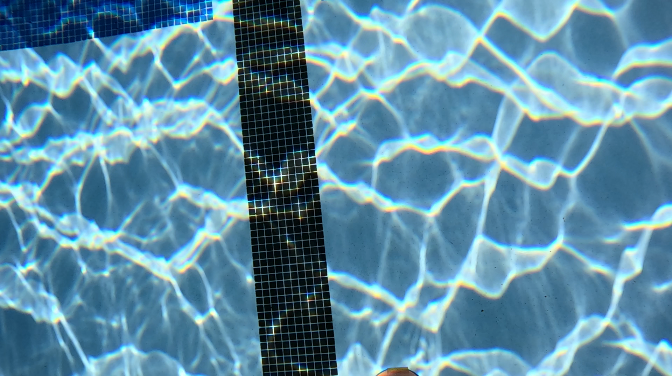pathmarker: (375, 365, 418, 375)
